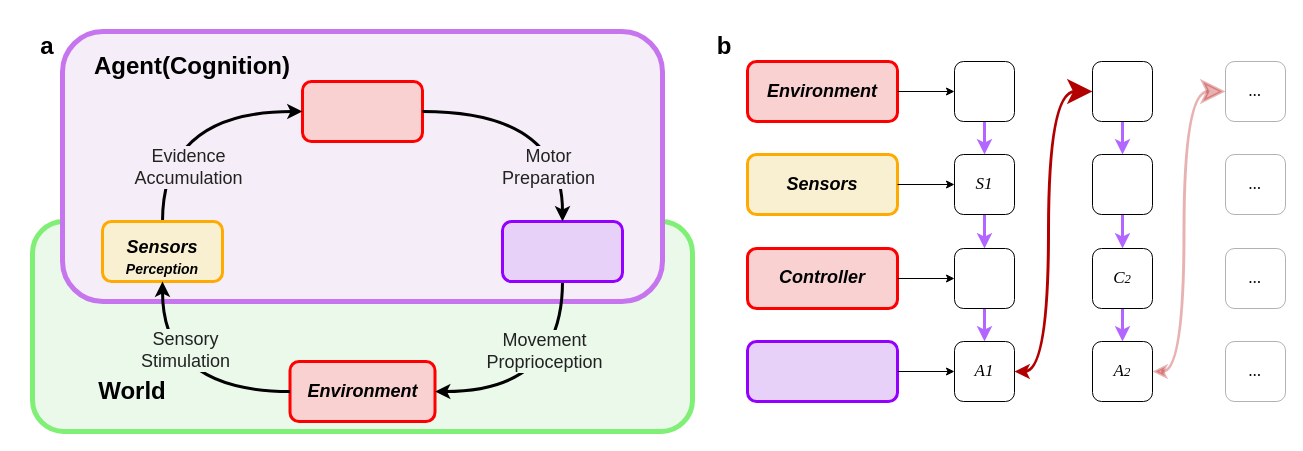
Image size: 1303x451. Some labels were removed from this diagram. The shapes that lost their labels are listed below. From the top down, each one's centre as x and y in pixels, then its label:
At [362,111]: "Con troller Decision Making".
At [984,91]: "W 1".
At [1122,91]: "W 2".
At [1122,184]: "S 2".
At [562,251]: "Actuators Acion".
At [984,278]: "C1".
At [822,371]: "Actuators".
